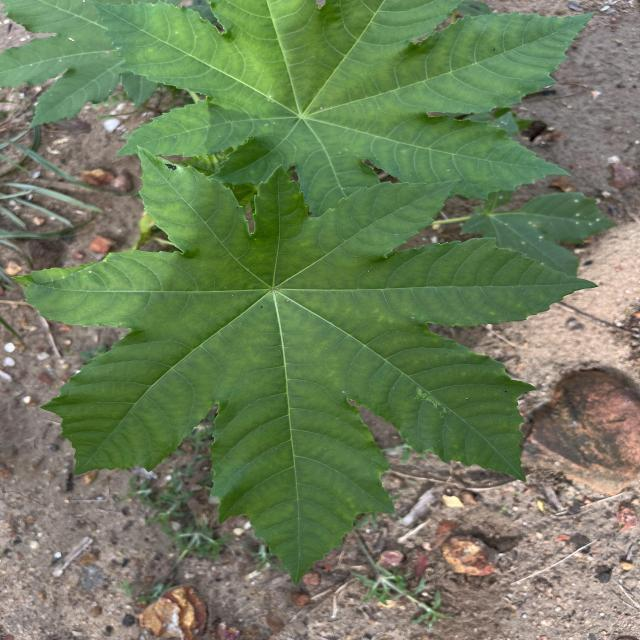Ricinus communis linn: (4, 138, 605, 592)
